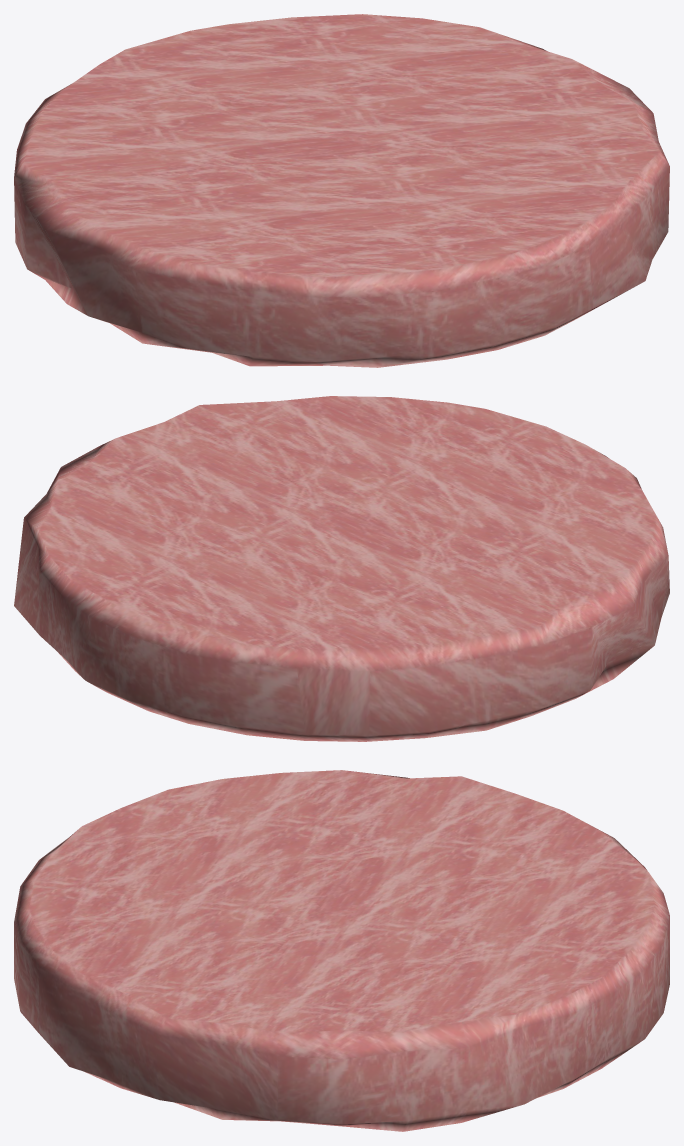
Rendered from MeatPattyUncooked_Visual.glb.
3 views of the same model, one above another, from view 1: azimuth 30°, elevation 25°; view 2: azimuth 150°, elevation 25°; view 3: azimuth 270°, elevation 25° (orthographic). The views are drawn at different scales.
Visible parts, largest first — view 1: Uncooked meat patty; view 2: Uncooked meat patty; view 3: Uncooked meat patty.
Part boxes in pixels (x1=…): Uncooked meat patty: x1=14, y1=14, x2=669, y2=367; Uncooked meat patty: x1=14, y1=396, x2=669, y2=741; Uncooked meat patty: x1=14, y1=770, x2=669, y2=1131.
Bounding box in the file's own units: 0.7156 × 0.1083 × 0.6909.
1 material, 1 textured.
